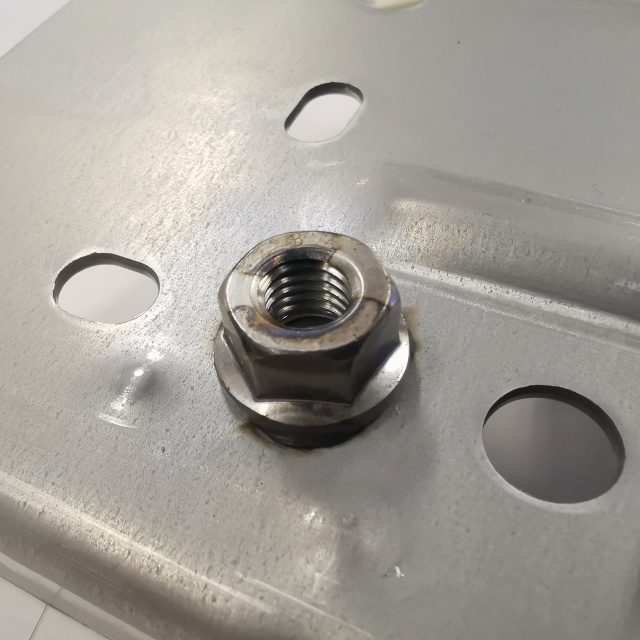dog: (209, 225, 416, 451)
